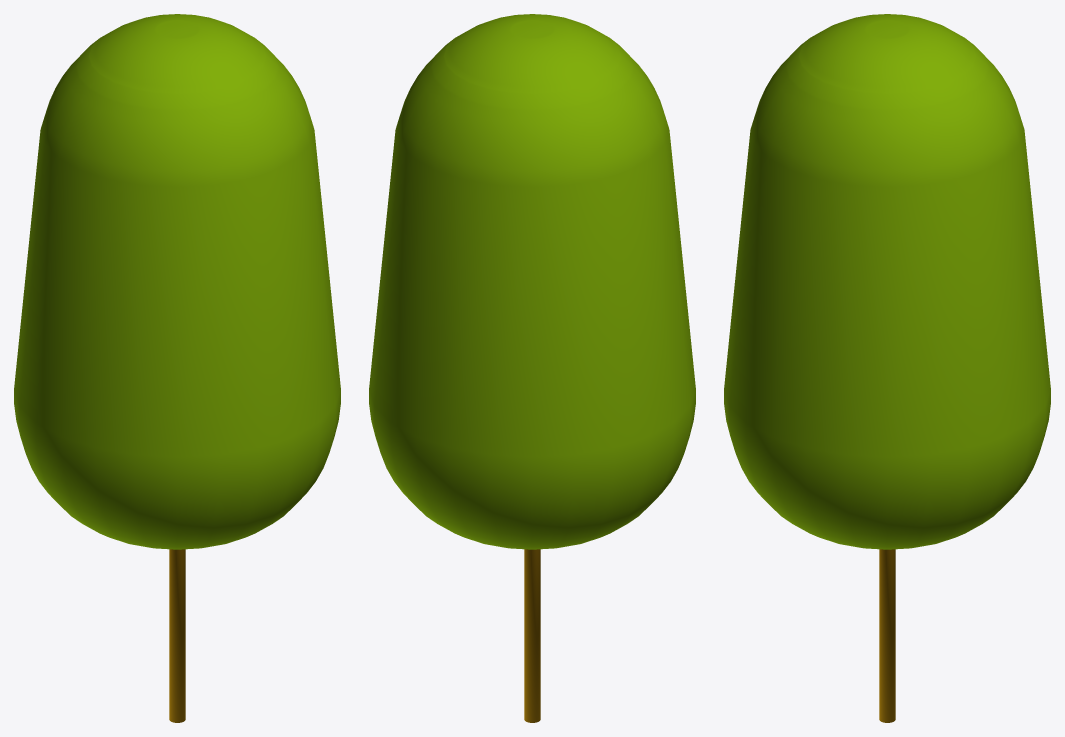
Rendered from HPSo7m.glb.
The picture shows the model from 3 angles, left to right: view 1: azimuth 30°, elevation 25°; view 2: azimuth 150°, elevation 25°; view 3: azimuth 270°, elevation 25°; orthographic projection.
Parts seen in each view (by area): view 1: HPSo7m; view 2: HPSo7m; view 3: HPSo7m.
Part boxes in pixels (x1,y1,x2,y2): HPSo7m: (14,14,340,722); HPSo7m: (369,14,695,722); HPSo7m: (724,14,1050,722).
Bounding box in the file's own units: 3 × 7 × 3.
